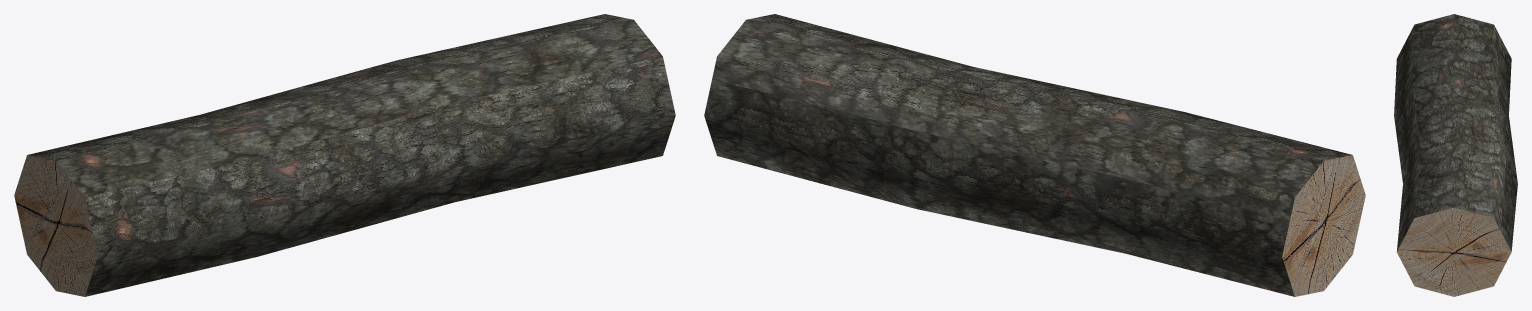
Rendered from KEEP THIS.fbx.
3 views of the same model, side by side, from view 1: azimuth 30°, elevation 25°; view 2: azimuth 150°, elevation 25°; view 3: azimuth 270°, elevation 25° (orthographic). The views are drawn at different scales.
Visible parts, largest first — view 1: Cube, Cube.001; view 2: Cube, Cube.001; view 3: Cube, Cube.001.
Boxes of the visible parts, x1=… form: Cube: x1=28, y1=14, x2=675, y2=296; Cube.001: x1=14, y1=155, x2=97, y2=296; Cube: x1=704, y1=14, x2=1351, y2=296; Cube.001: x1=1282, y1=155, x2=1365, y2=296; Cube: x1=1394, y1=14, x2=1517, y2=251; Cube.001: x1=1397, y1=207, x2=1511, y2=296.
Bounding box in the file's own units: 201 × 43.22 × 54.24.
